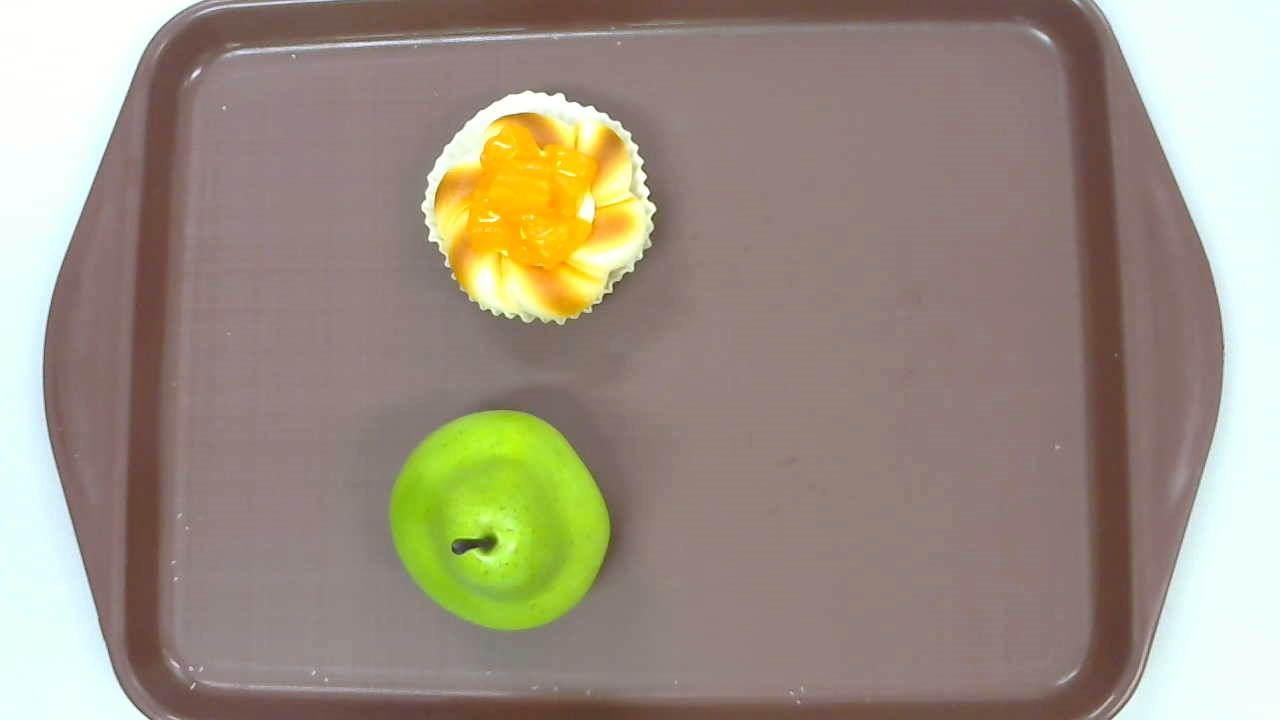green pear: (389, 409, 610, 630)
mango tart: (419, 90, 657, 327)
